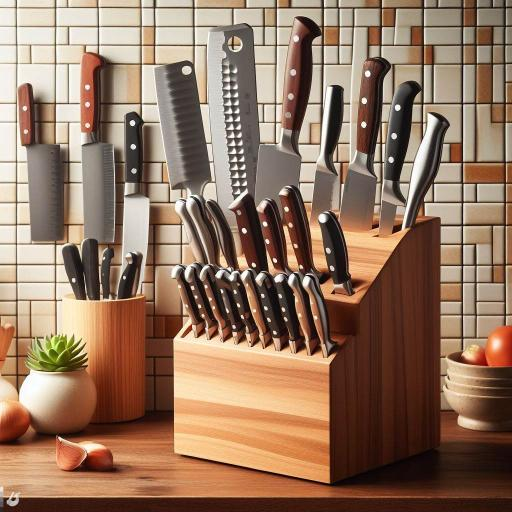knife: (78, 49, 119, 244)
